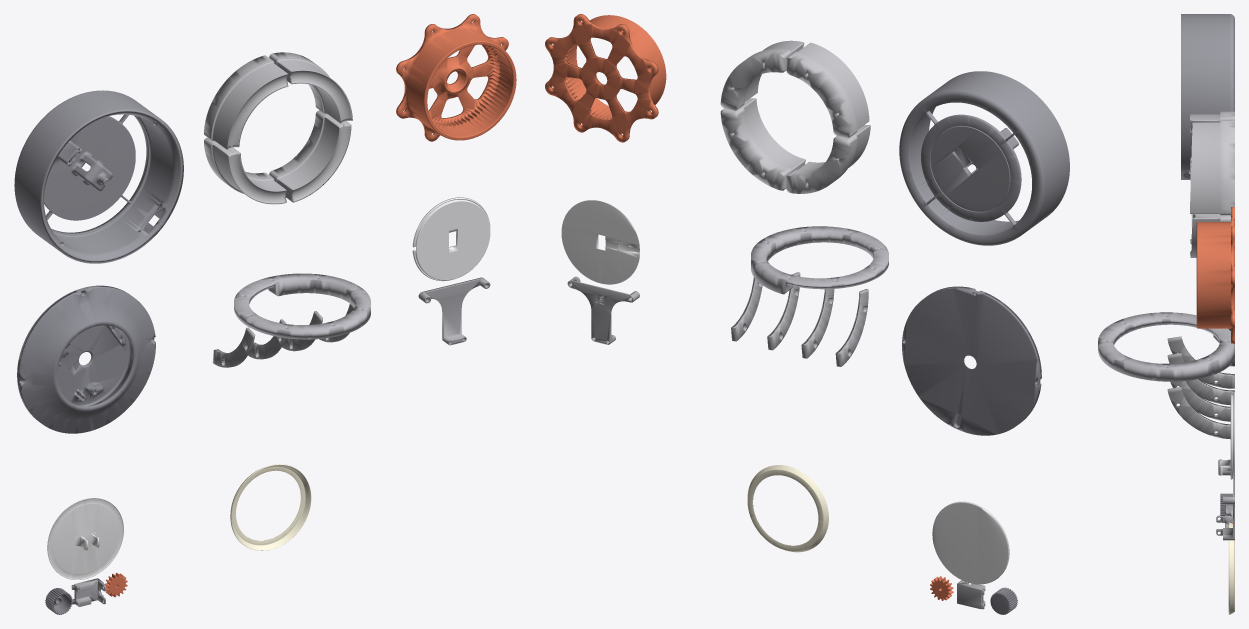
Rendered from Marble_Run_Assembly.glb.
3 views of the same model, side by side, from view 1: azimuth 30°, elevation 25°; view 2: azimuth 150°, elevation 25°; view 3: azimuth 270°, elevation 25° (orthographic).
Visible parts, largest first — view 1: Base_0, Ground_7, Disc_1, Lightholder_12, Topplate_9, Wave_8, Rail_3, Rail_4, Rail_2, Rail_5, Lightring_11, Box_Bracket_13 (+2 smaller); view 2: Base_0, Ground_7, Disc_1, Lightholder_12, Topplate_9, Wave_8, Rail_3, Rail_4, Rail_2, Rail_5, Lightring_11, Box_Bracket_13 (+4 smaller); view 3: Base_0, Wave_8, Disc_1, Rail_5, Connection_16, Connection_14, Connection_15, Connection_17, Lightring_11, Rail_4, Rail_3, Lightholder_12 (+2 smaller).
Boxes of the visible parts, x1,y1,x2,y2 form: Base_0: (14,90,183,263); Ground_7: (17,285,155,433); Disc_1: (396,14,516,141); Lightholder_12: (412,197,490,281); Topplate_9: (47,498,123,579); Wave_8: (234,273,370,339); Rail_3: (204,55,288,149); Rail_4: (269,110,351,202); Rail_2: (204,137,286,204); Rail_5: (269,52,352,123); Lightring_11: (230,464,311,550); Box_Bracket_13: (418,277,490,345); Base_0: (899,71,1069,245); Ground_7: (902,286,1041,435); Disc_1: (545,14,666,142); Lightholder_12: (561,200,639,284); Topplate_9: (932,501,1009,584); Wave_8: (751,226,888,294); Rail_3: (786,42,869,137); Rail_4: (720,98,805,190); Rail_2: (786,124,870,193); Rail_5: (720,40,804,110); Lightring_11: (747,465,828,552); Box_Bracket_13: (567,276,639,344); Base_0: (1181,14,1234,179); Wave_8: (1098,312,1234,381); Disc_1: (1196,207,1234,343); Rail_5: (1190,120,1234,215); Connection_16: (1167,387,1230,439); Connection_14: (1170,381,1230,421); Connection_15: (1167,353,1234,405); Connection_17: (1167,336,1234,388); Lightring_11: (1228,522,1234,614); Rail_4: (1190,214,1230,257); Rail_3: (1190,111,1234,137); Lightholder_12: (1230,392,1234,481).
Bounding box in the file's own units: 582 × 575 × 140.
